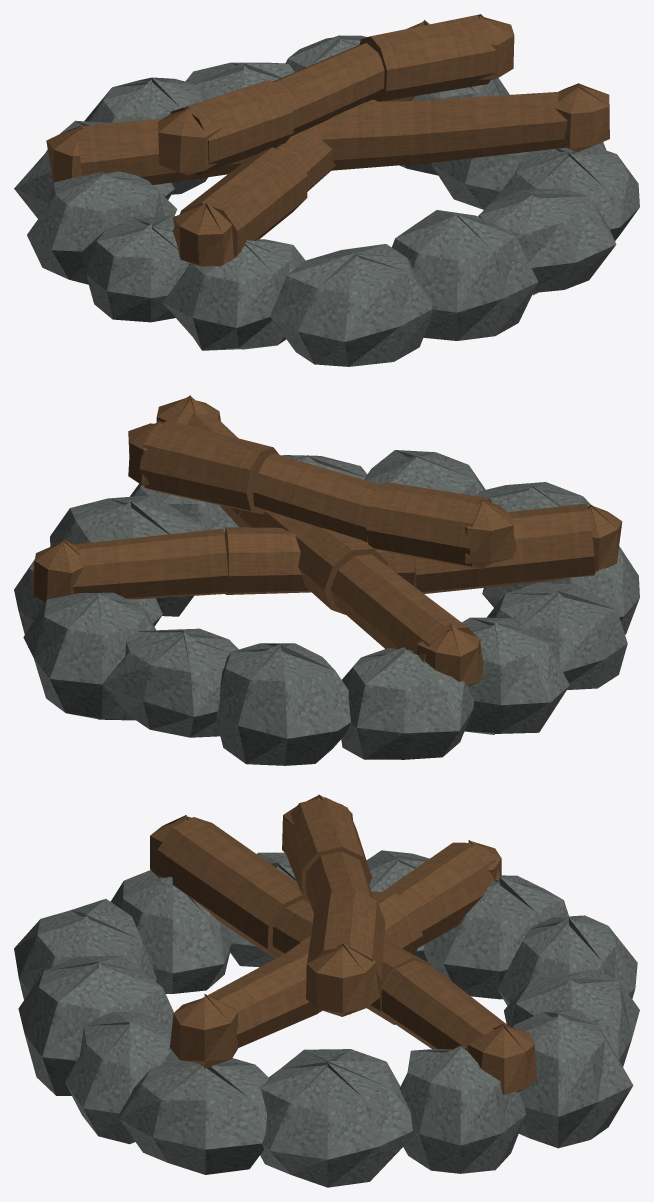
The model's file is cs-006_campfire_laid_but_unlit.obj.
3 renders of one model, top to bottom at view 1: azimuth 30°, elevation 25°; view 2: azimuth 150°, elevation 25°; view 3: azimuth 270°, elevation 25°, orthographic. The views are drawn at different scales.
Parts seen in each view (by area): view 1: cs-006_campfire_laid_but_unlit; view 2: cs-006_campfire_laid_but_unlit; view 3: cs-006_campfire_laid_but_unlit.
Part boxes in pixels (x1,y1,x2,y2): cs-006_campfire_laid_but_unlit: [14, 14, 639, 366]; cs-006_campfire_laid_but_unlit: [14, 395, 639, 765]; cs-006_campfire_laid_but_unlit: [14, 794, 639, 1187].
Size of the model in its own units: 1.1 by 0.4128 by 1.04.
2 materials, 2 textured.
